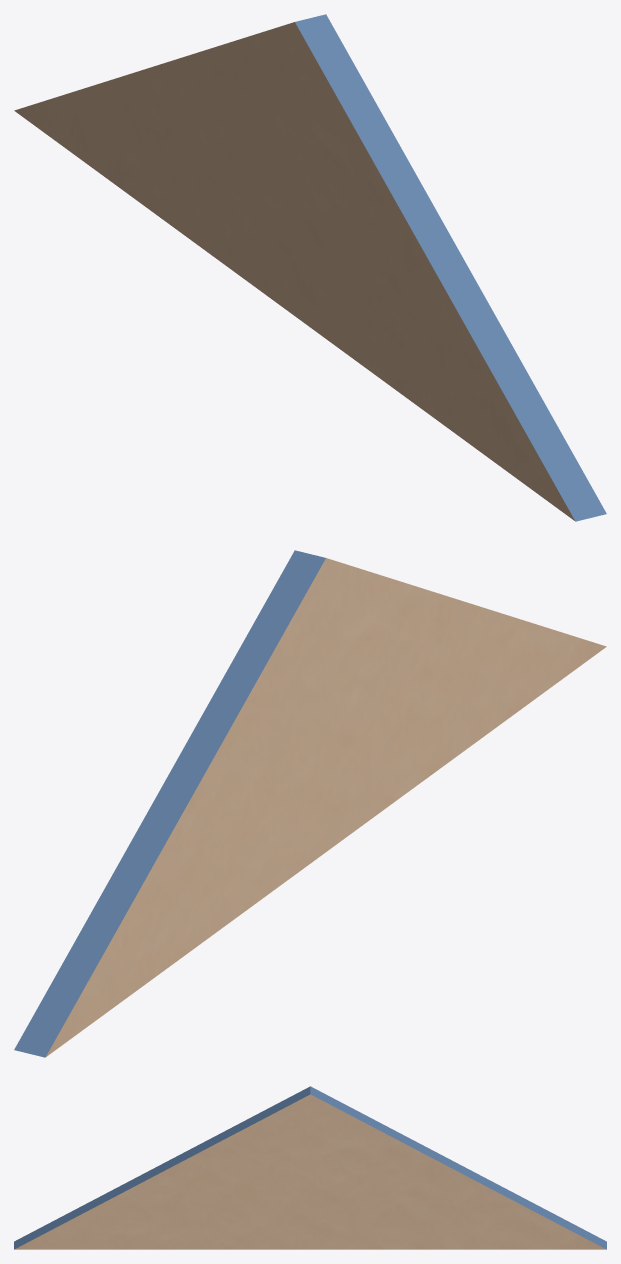
Rendered from Roof3_GableEnd.fbx.
3 renders of one model, top to bottom at view 1: azimuth 30°, elevation 25°; view 2: azimuth 150°, elevation 25°; view 3: azimuth 270°, elevation 25°, orthographic. The views are drawn at different scales.
Visible parts, largest first — view 1: Roof3_GableEnd; view 2: Roof3_GableEnd; view 3: Roof3_GableEnd.
Boxes of the visible parts, x1,y1,x2,y2 form: Roof3_GableEnd: [14, 14, 606, 521]; Roof3_GableEnd: [14, 550, 606, 1057]; Roof3_GableEnd: [14, 1086, 606, 1249].
Size of the model in its own units: 0.1 by 0.896 by 3.1.
Materials: 1 (1 with a texture image).
